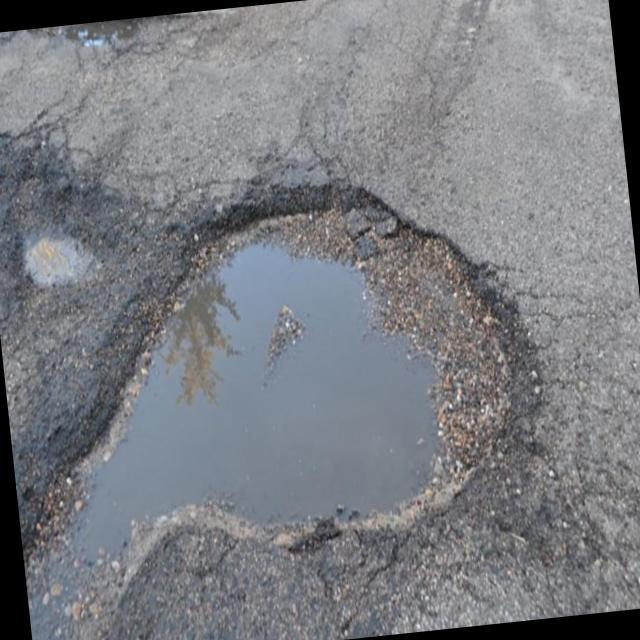Pothole: (126, 152, 550, 582), (10, 192, 104, 306)
